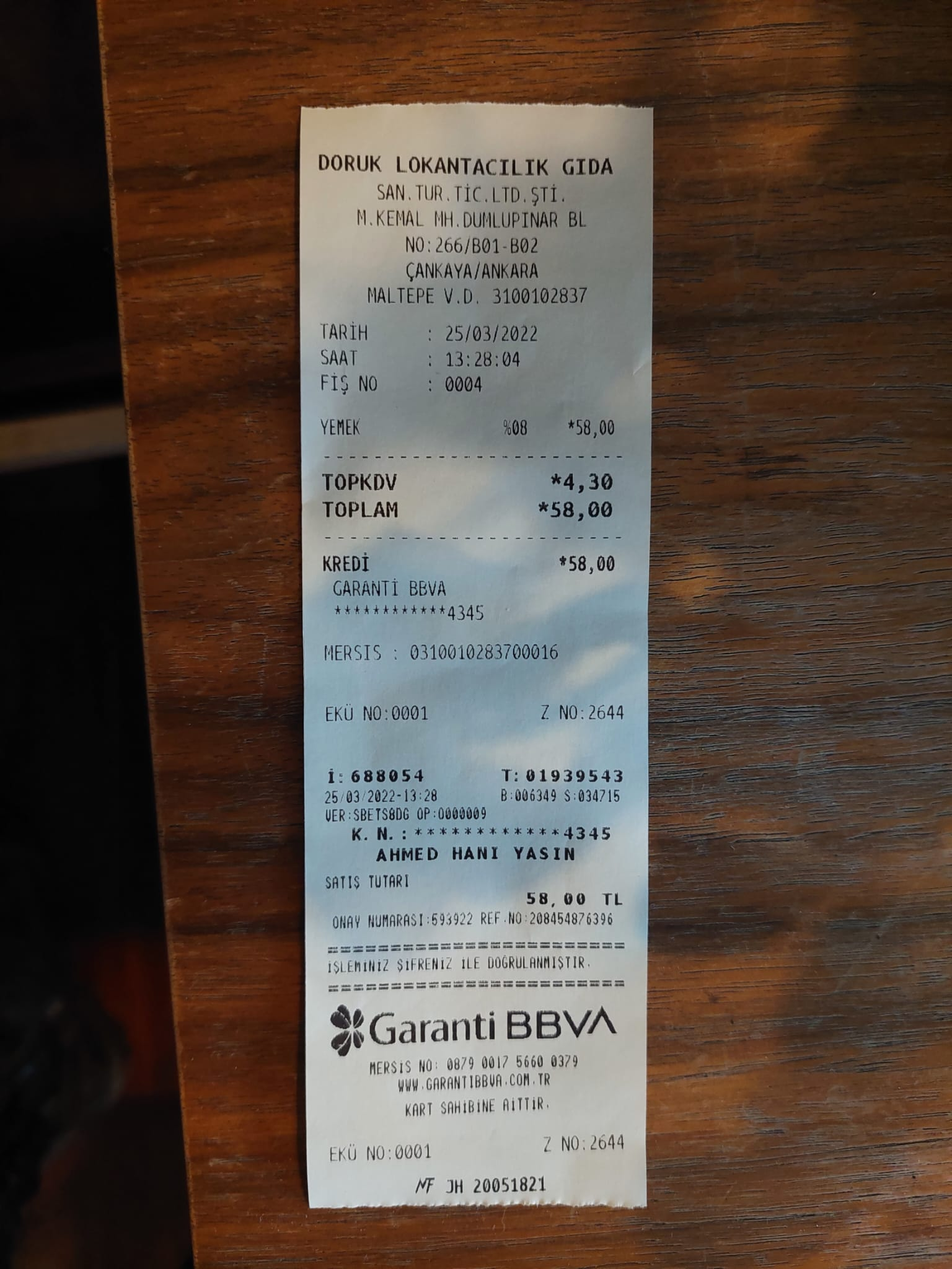date: (548, 494, 622, 528)
price: (440, 314, 544, 349)
workplace: (308, 139, 628, 282)
